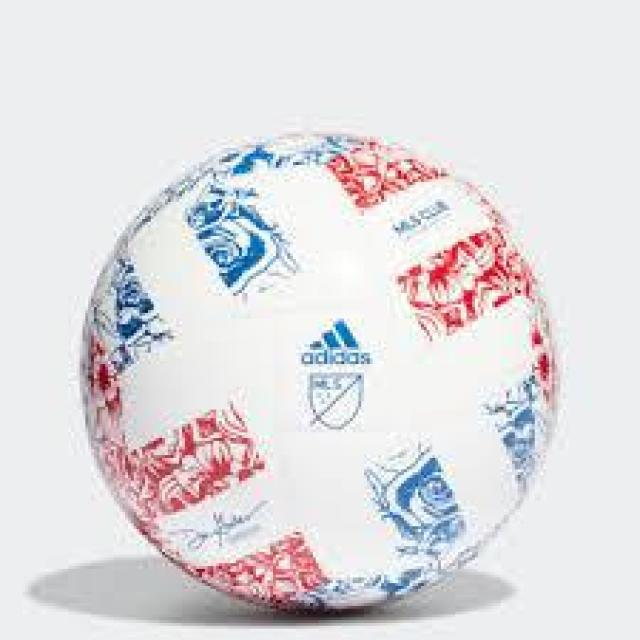ball: (70, 119, 572, 628)
